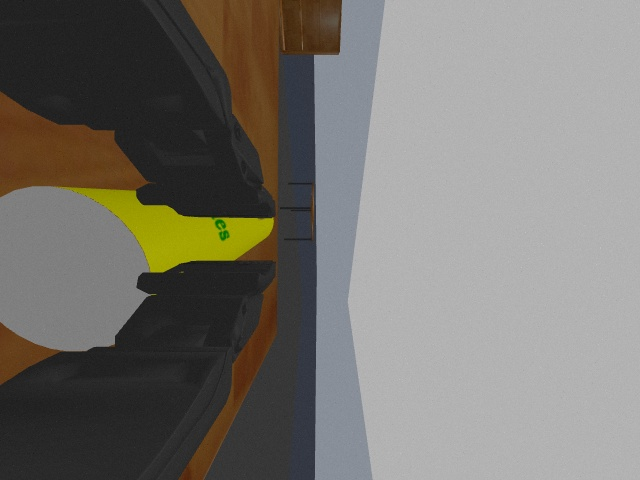chipsdose_gelb: (1, 186, 273, 353)
